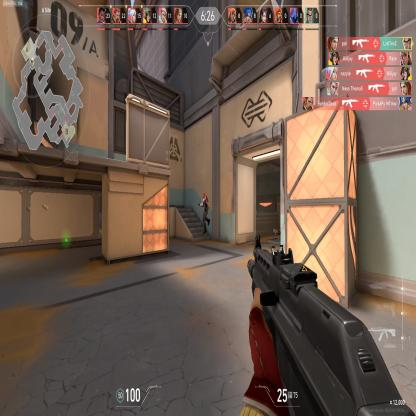enemy: (198, 192, 210, 234)
